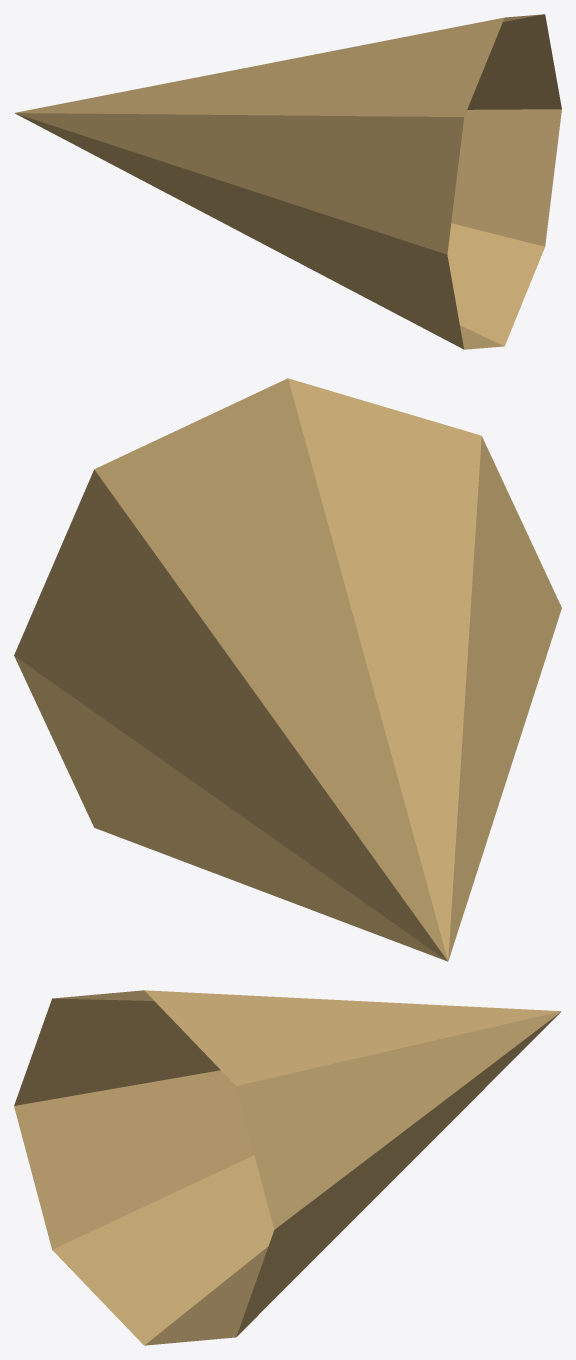
File: cylinder.008_material.024_0_lev1.glb
3 views of the same model, one above another, from view 1: azimuth 30°, elevation 25°; view 2: azimuth 150°, elevation 25°; view 3: azimuth 270°, elevation 25° (orthographic). The views are drawn at different scales.
Parts seen in each view (by area): view 1: cylinder.008_material.024_0_lev1; view 2: cylinder.008_material.024_0_lev1; view 3: cylinder.008_material.024_0_lev1.
Part boxes in pixels (x1,y1,x2,y2): cylinder.008_material.024_0_lev1: (14, 14, 561, 349); cylinder.008_material.024_0_lev1: (14, 378, 561, 961); cylinder.008_material.024_0_lev1: (14, 990, 561, 1345).
Size of the model in its own units: 0.6682 by 0.5063 by 0.7075.
